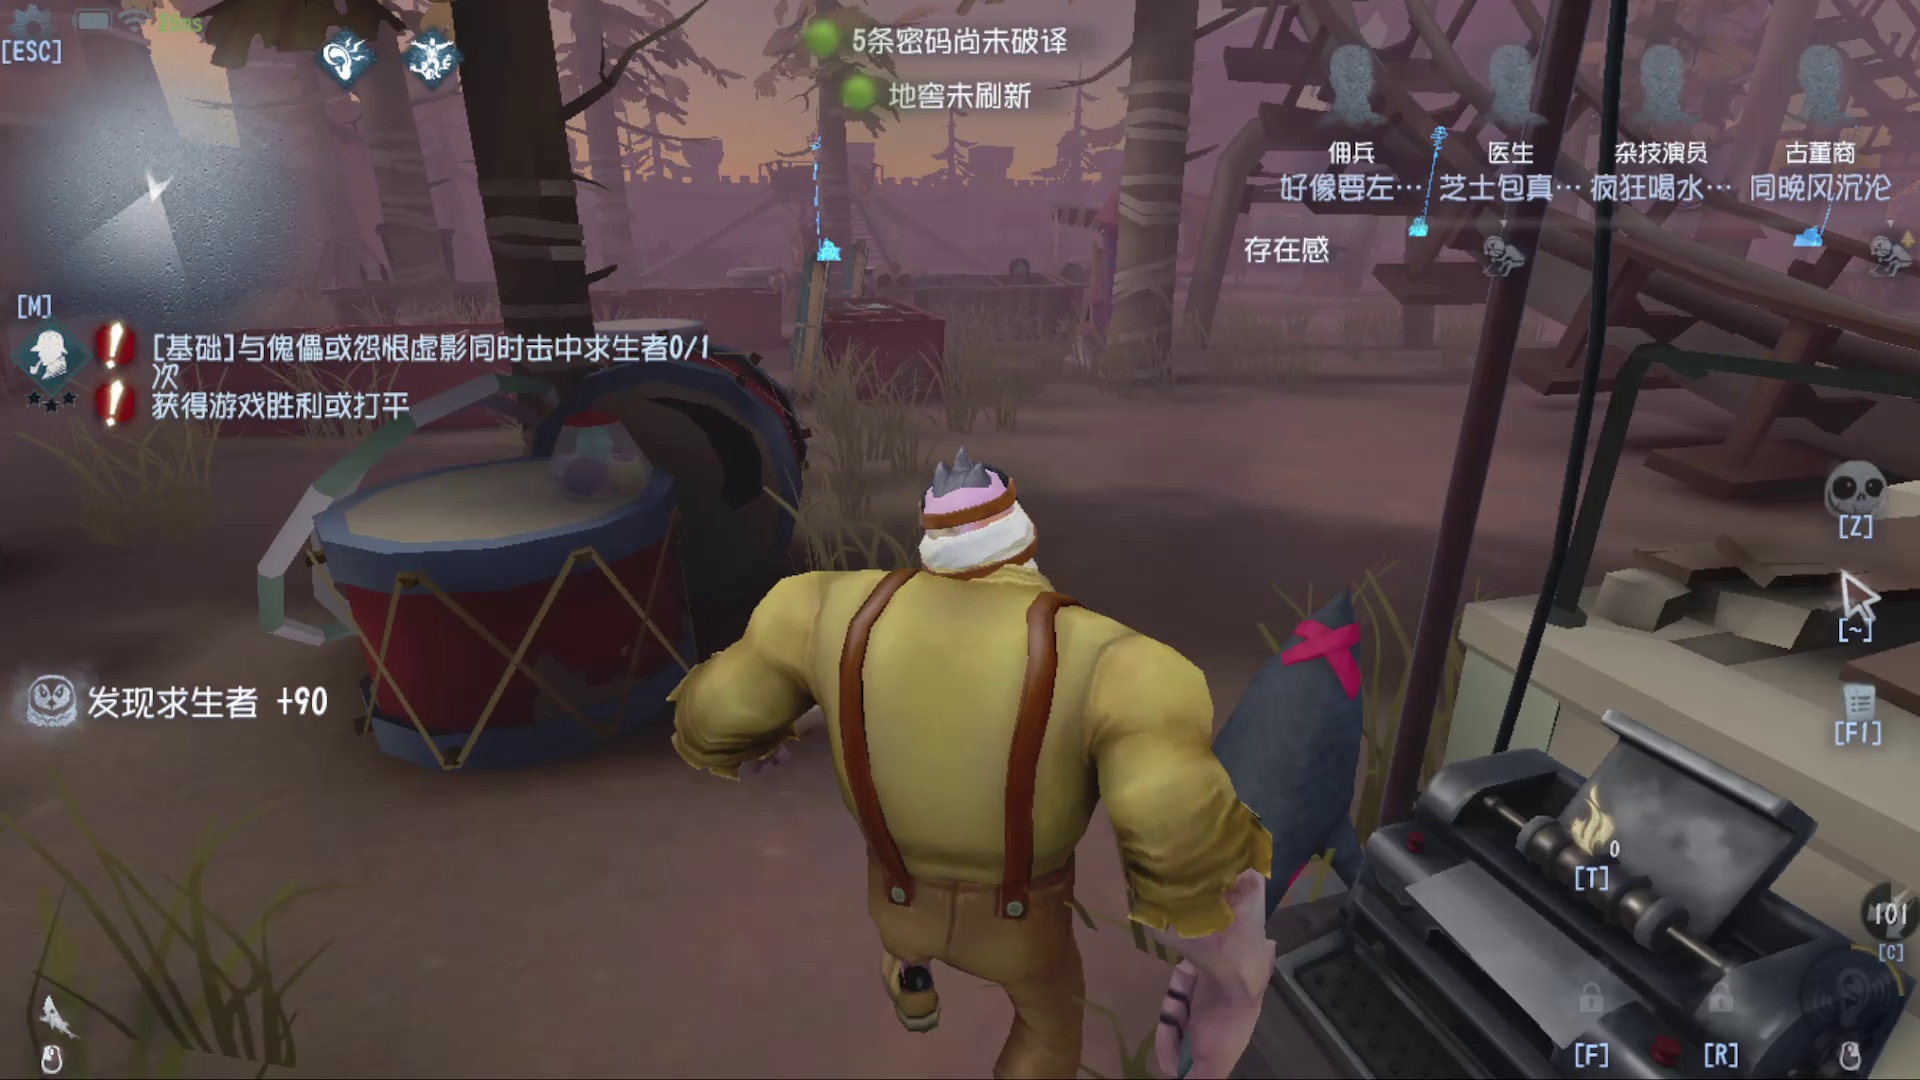密码机: (1276, 717, 1878, 1069), (787, 131, 851, 276), (1408, 109, 1449, 256), (1785, 175, 1849, 253)
木板: (773, 251, 841, 413)
狂欢之椅: (1042, 186, 1131, 375)
